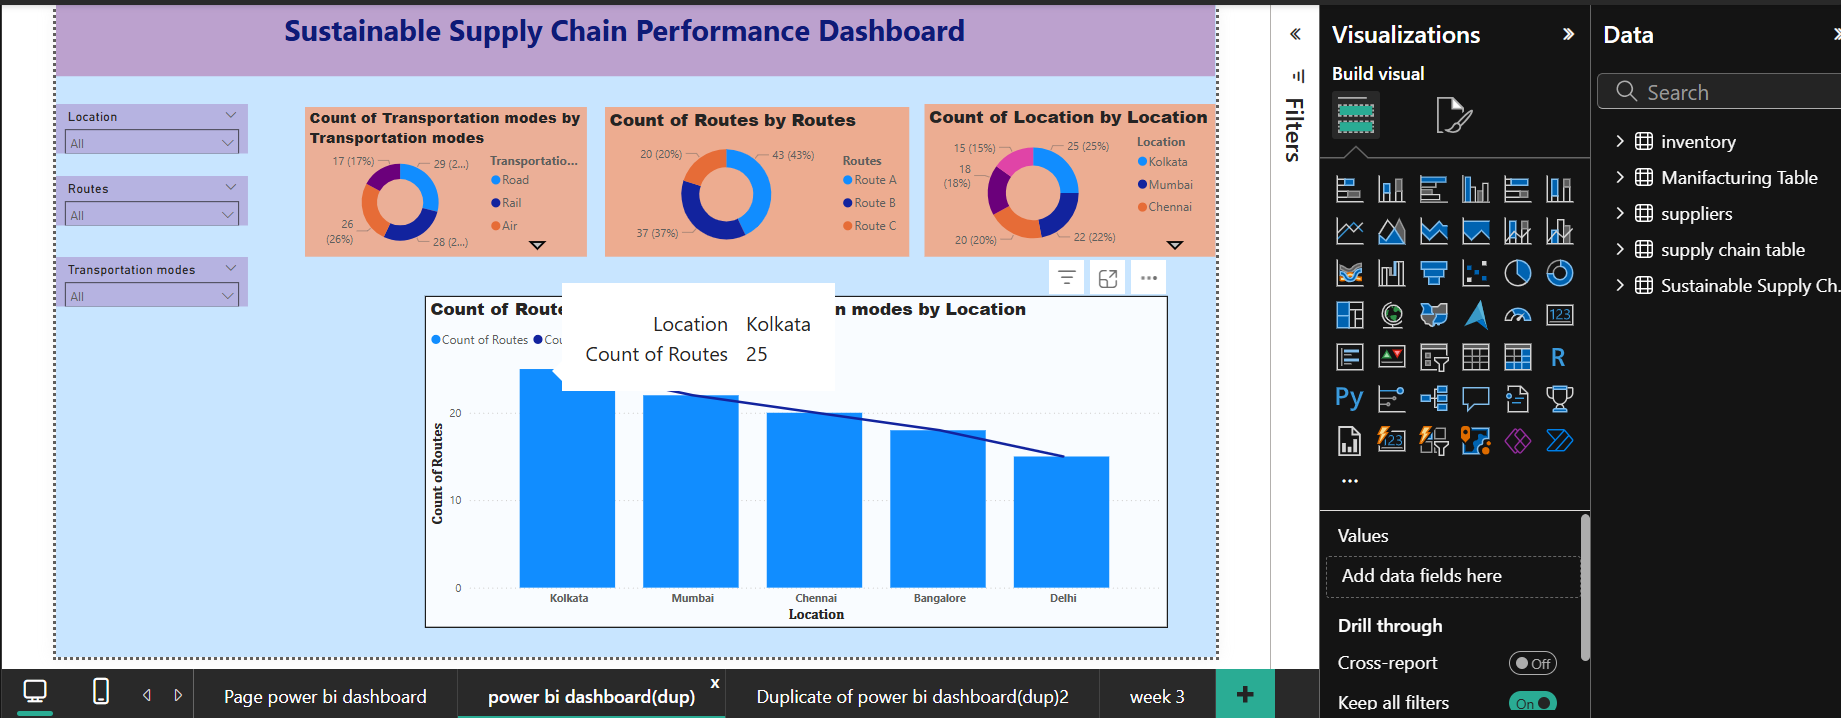

The page's visual inventory and layout, read from the dashboard file:
{"tool":"powerbi","page":{"name":"power bi dashboard(dup)","canvas":[1280,720],"ordinal":1},"visuals":[{"type":"textbox","box":[0,0,1280,78.3],"z":0},{"type":"slicer","fields":{"Values":["suppliers.Location"]},"box":[0,109.3,212,54.7],"z":1000},{"type":"slicer","fields":{"Values":["suppliers.Routes"]},"box":[0,188.8,212,54.7],"z":2000},{"type":"slicer","fields":{"Values":["suppliers.Transportation modes"]},"box":[0,278.3,212,54.7],"z":3000},{"type":"donutChart","fields":{"Category":["suppliers.Location"],"Y":["CountNonNull(suppliers.Location)"]},"box":[959.1,109.3,321.4,169],"z":4000},{"type":"donutChart","fields":{"Category":["suppliers.Routes"],"Y":["CountNonNull(suppliers.Routes)"]},"box":[606.3,112.6,336.3,165.6],"z":5000},{"type":"donutChart","fields":{"Category":["suppliers.Transportation modes"],"Y":["CountNonNull(suppliers.Transportation modes)"]},"box":[275,112.6,311.4,165.6],"z":6000},{"type":"lineStackedColumnComboChart","fields":{"Category":["suppliers.Location"],"Y":["CountNonNull(suppliers.Routes)"],"Y2":["CountNonNull(suppliers.Transportation modes)"]},"box":[407.5,321.4,820,366.1],"z":7000}]}

Visuals, with their boxes on the page's 1280x720 design canvas (x1, y1, x2, y2). These are canvas units, not pixel positions in the 1841x718 screenshot, which may show the page scaled, cropped or inside an application window:
textbox: (0, 0, 1280, 78)
slicer - suppliers.Location: (0, 109, 212, 164)
slicer - suppliers.Routes: (0, 189, 212, 244)
slicer - suppliers.Transportation modes: (0, 278, 212, 333)
donutChart - suppliers.Location x CountNonNull(suppliers.Location): (959, 109, 1280, 278)
donutChart - suppliers.Routes x CountNonNull(suppliers.Routes): (606, 113, 943, 278)
donutChart - suppliers.Transportation modes x CountNonNull(suppliers.Transportation modes): (275, 113, 586, 278)
lineStackedColumnComboChart - suppliers.Location x CountNonNull(suppliers.Routes): (408, 321, 1228, 688)
